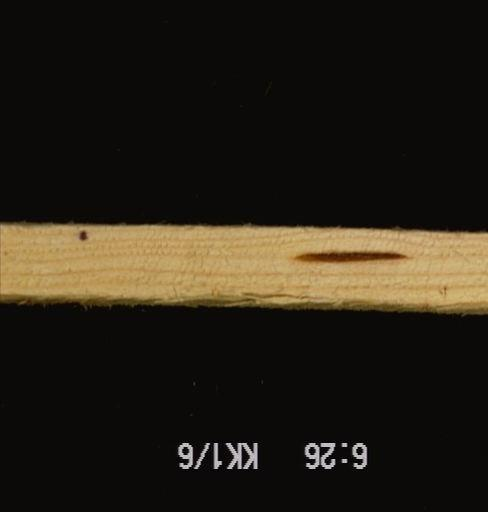split: (237, 289, 331, 302)
